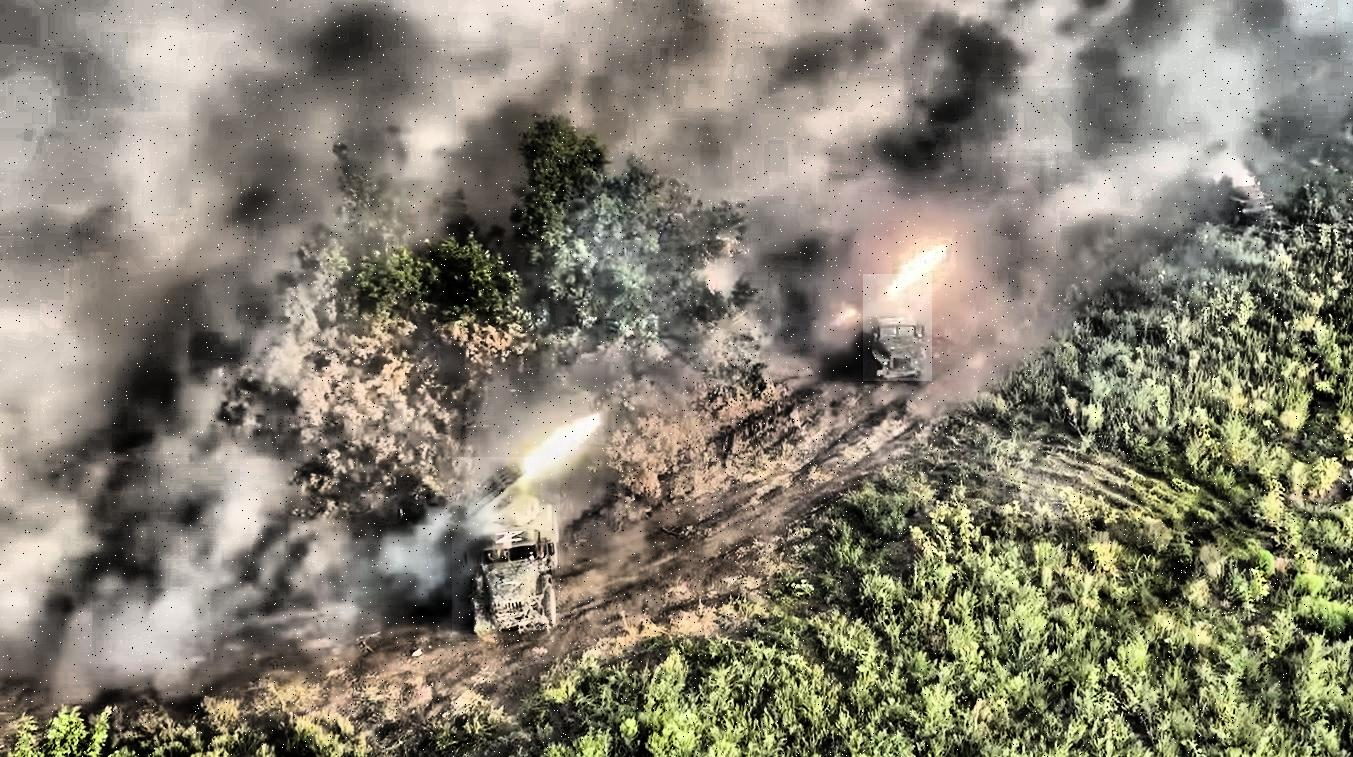military-vehicle: (453, 458, 561, 641), (864, 274, 933, 381)
